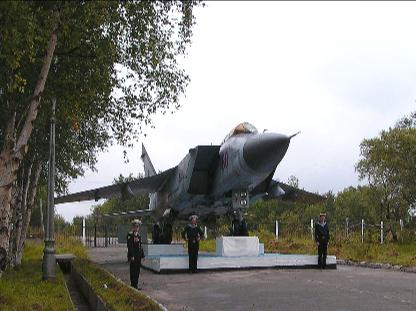Mig31: (55, 122, 331, 243)
